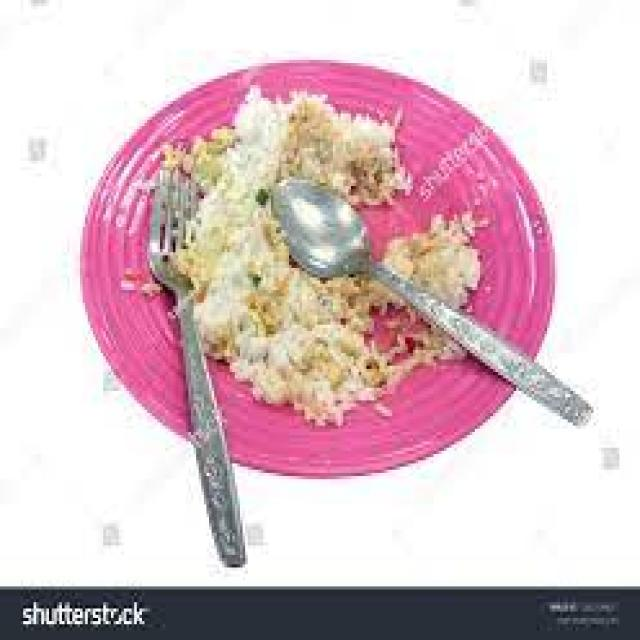Rice: (165, 88, 457, 422), (379, 214, 477, 300)
